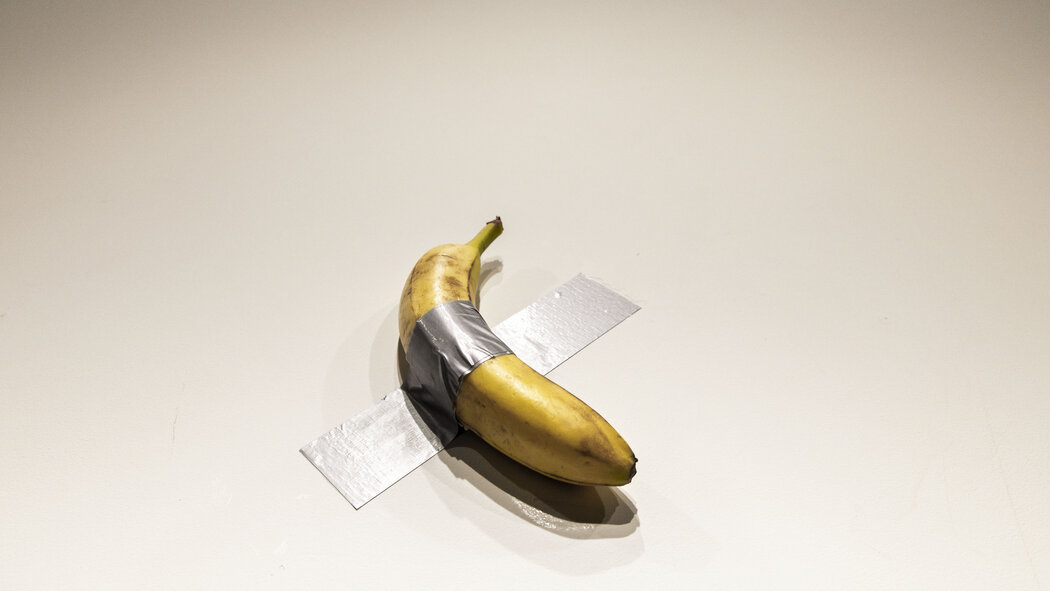banana: (289, 214, 669, 525)
